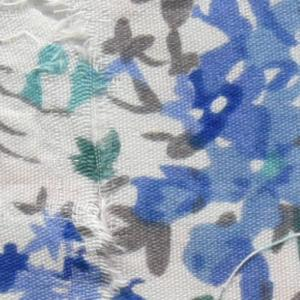Damage: (1, 1, 137, 300)
